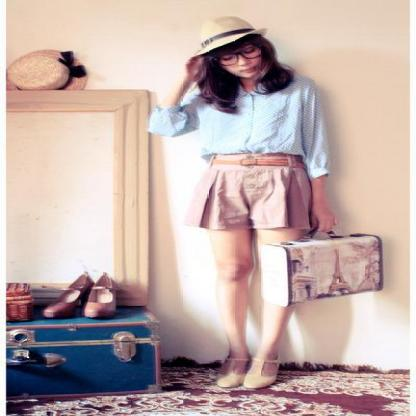bag: (283, 234, 391, 314)
hat: (201, 14, 261, 48)
shirt: (147, 75, 338, 177)
shoe: (218, 368, 290, 390)
shorts: (198, 148, 318, 240)
